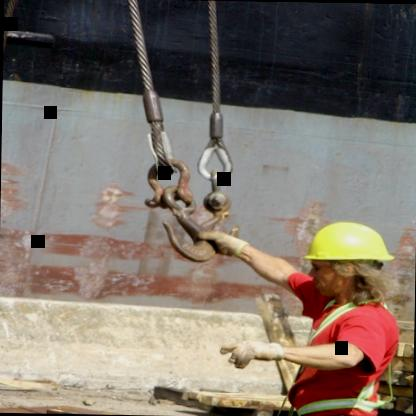helmet: (294, 213, 404, 308)
